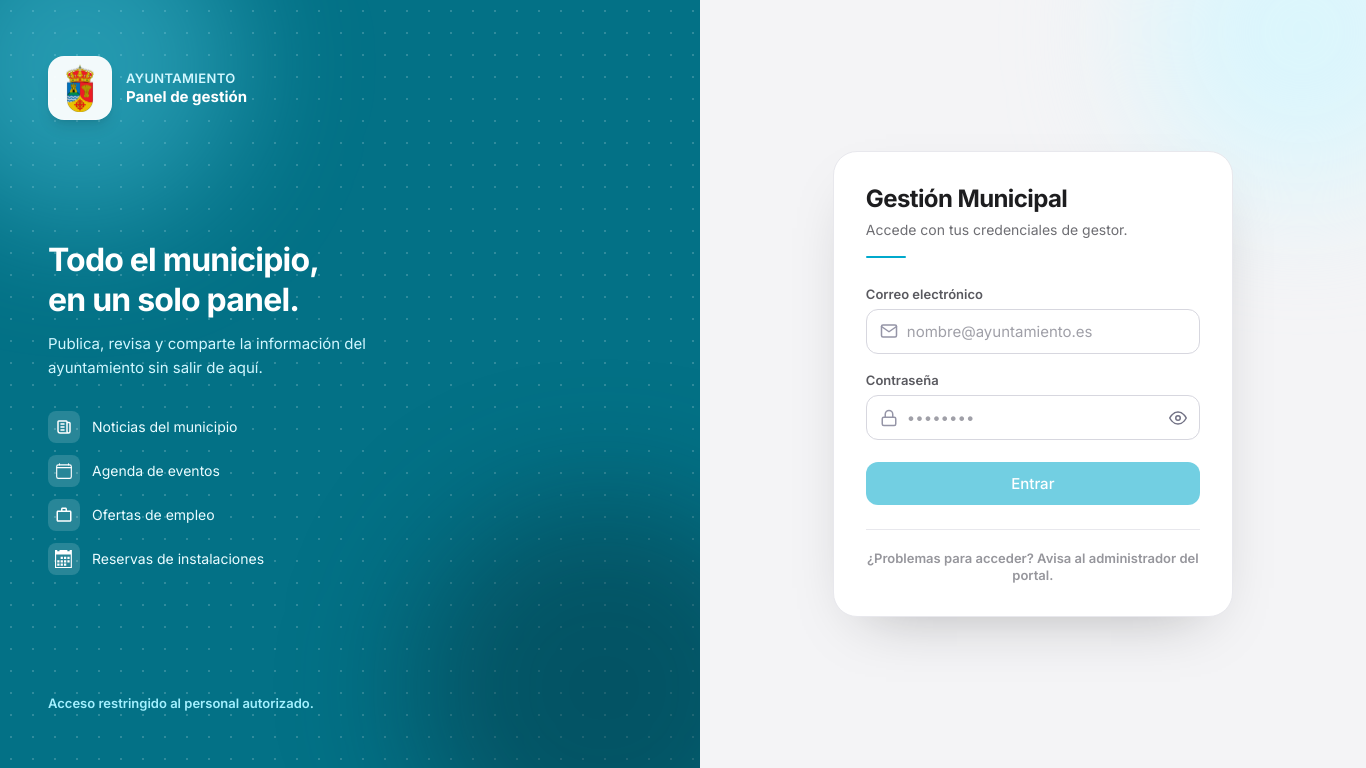
Scenario: Login - errores › muestra el mensaje del backend cuando las credenciales fallan
Type "plopez@aries.es" into the field labelled "Correo electrónico". click: (1033, 331)
box: top-left (866, 309), bottom-right (1200, 354)
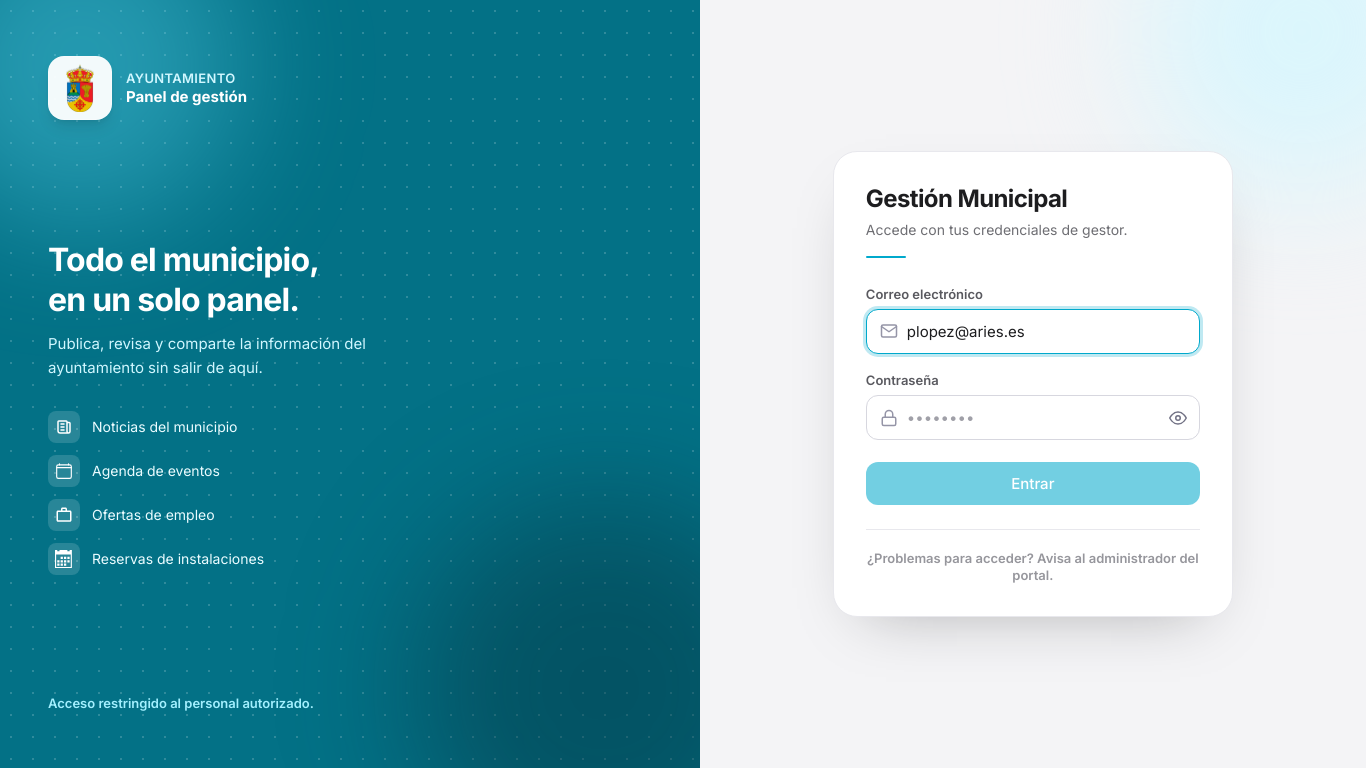
Type "mal" into the password field labelled "Contraseña". click: (1033, 418)
box: top-left (866, 395), bottom-right (1200, 440)
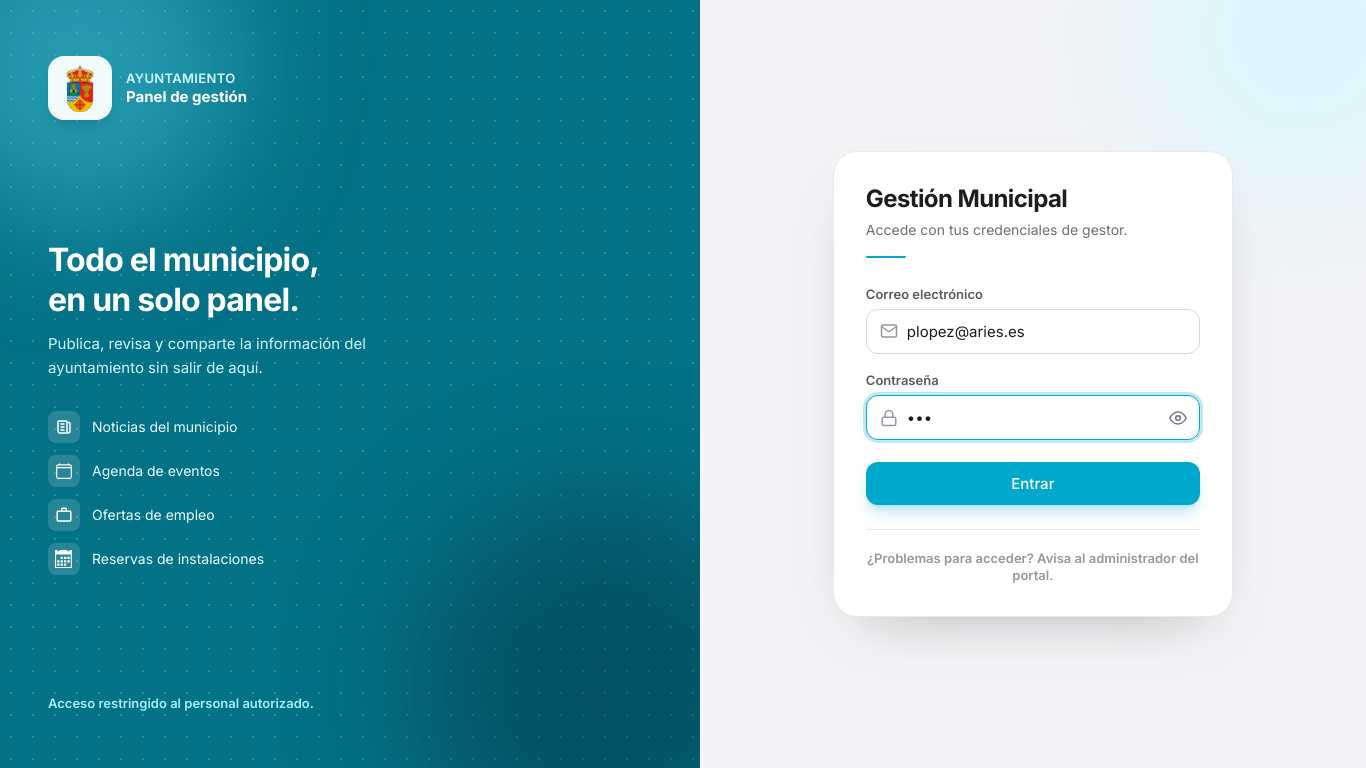
Click the button "Entrar". click: (1033, 484)
box: top-left (866, 462), bottom-right (1200, 505)
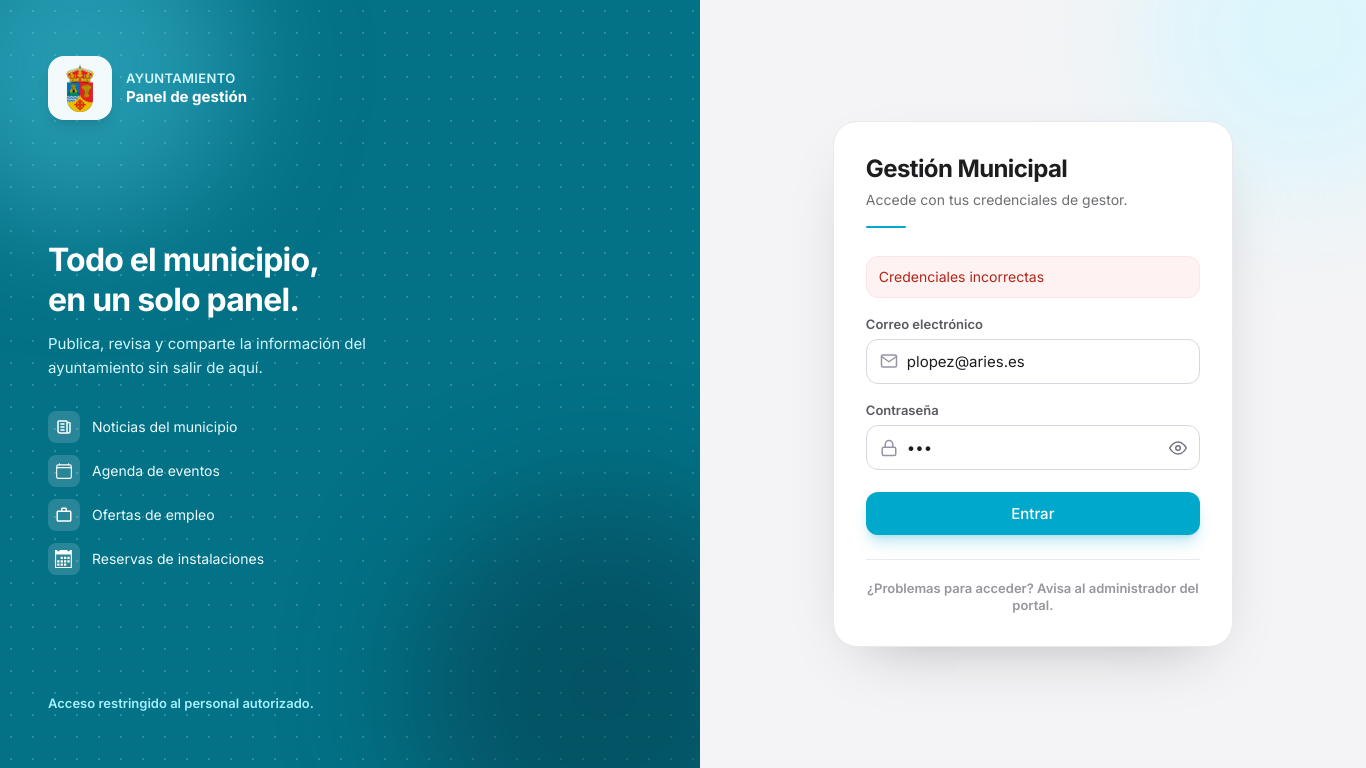
Expected: the message reads "Credenciales incorrectas", top-left (879, 268), bottom-right (1044, 285)
